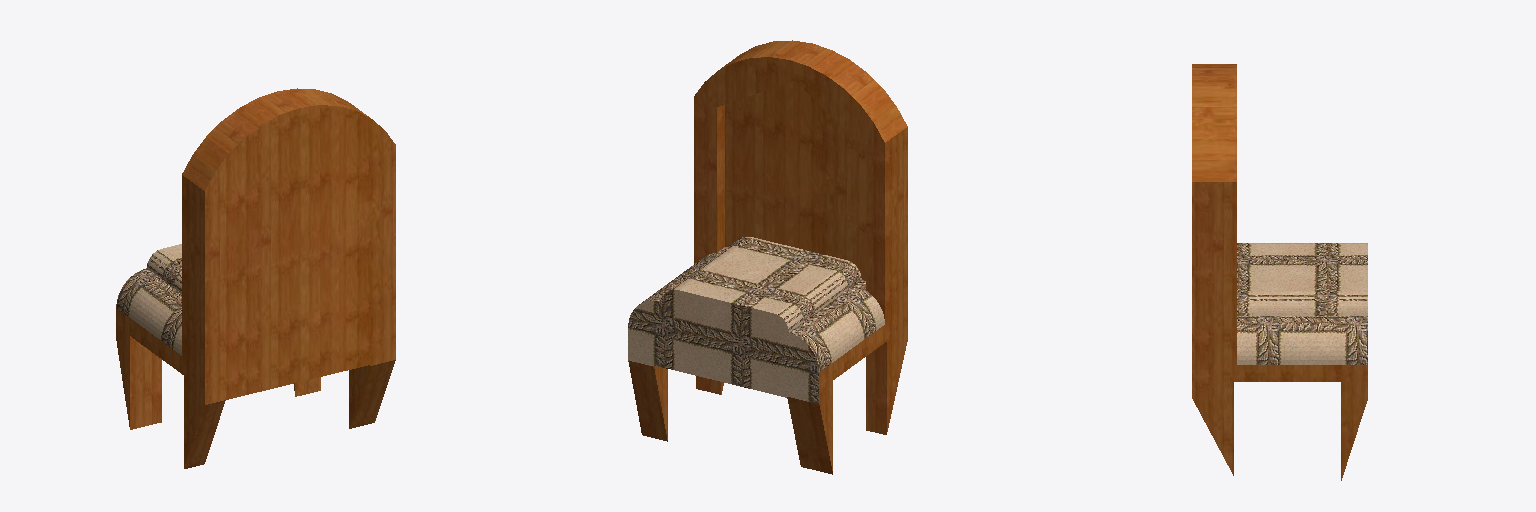
3 views of the same model, side by side, from view 1: azimuth 30°, elevation 25°; view 2: azimuth 150°, elevation 25°; view 3: azimuth 270°, elevation 25° (orthographic).
Parts seen in each view (by area): view 1: mesh1_mesh1-geometry; view 2: mesh1_mesh1-geometry; view 3: mesh1_mesh1-geometry.
Boxes of the visible parts, x1=… form: mesh1_mesh1-geometry: x1=116, y1=88, x2=395, y2=468; mesh1_mesh1-geometry: x1=628, y1=40, x2=907, y2=474; mesh1_mesh1-geometry: x1=1192, y1=64, x2=1367, y2=480.
Size of the model in its own units: 0.4522 by 0.8152 by 0.3619.
2 materials, 2 textured.